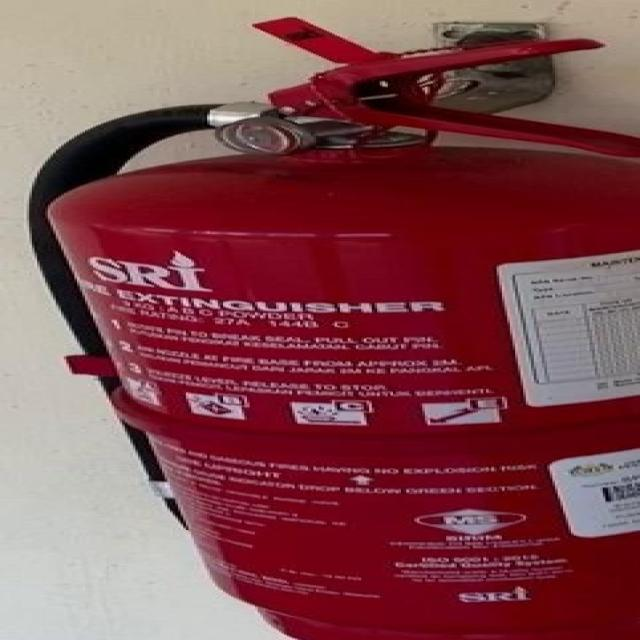fire_extinguisher: (16, 12, 637, 639)
